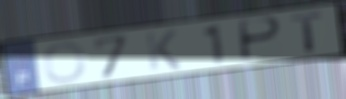1: (201, 22, 226, 65)
7: (93, 32, 133, 80)
K: (143, 28, 184, 72)
O: (42, 41, 88, 85)
P: (239, 15, 285, 63)
T: (288, 11, 326, 54)
